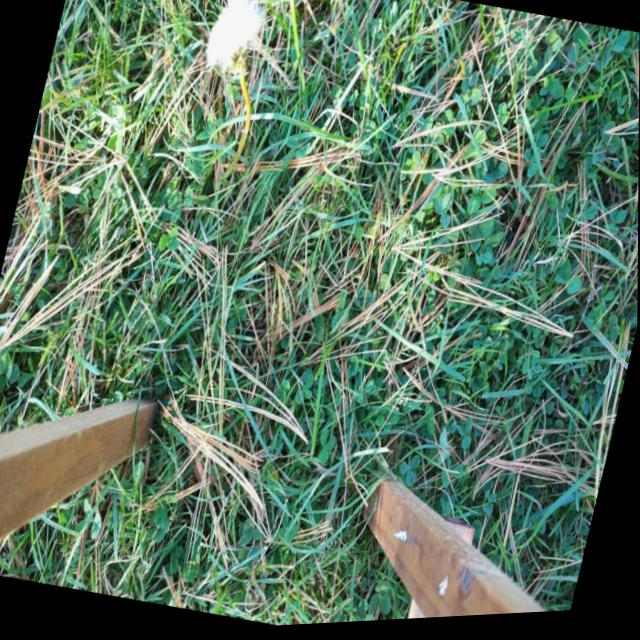base: (208, 161, 234, 201)
